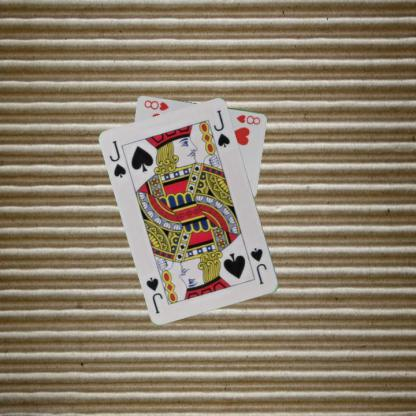8h: (234, 112, 262, 125)
Js: (248, 245, 269, 286), (107, 138, 128, 179)
